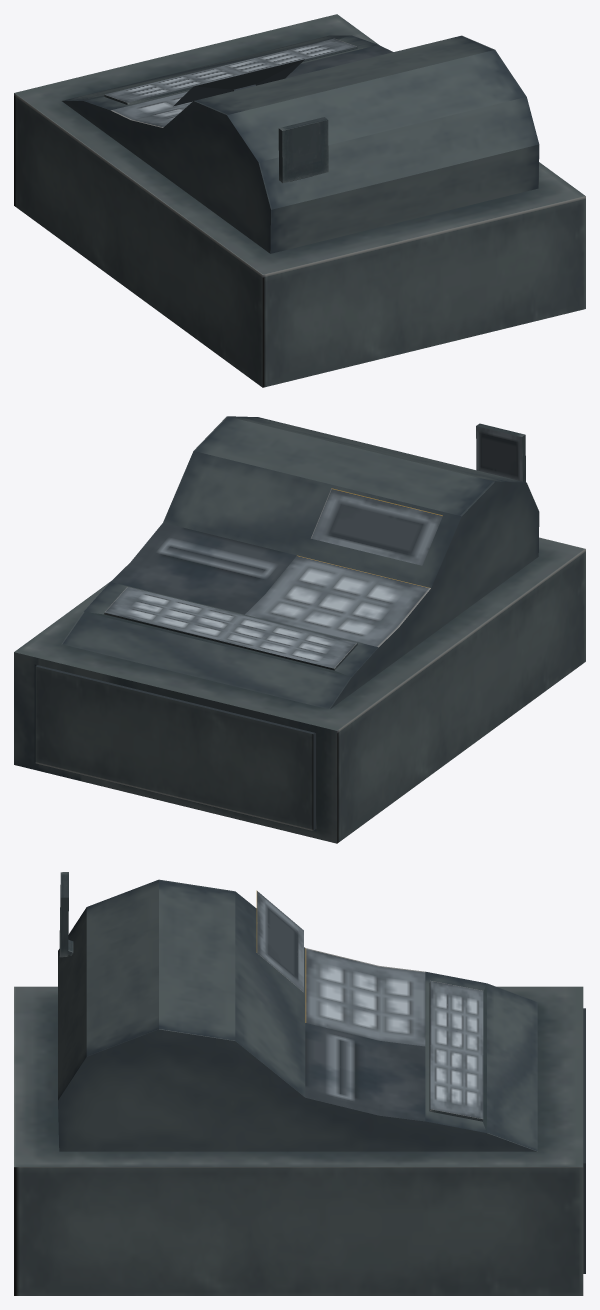
Rendered from Cashbox.fbx.
3 renders of one model, top to bottom at view 1: azimuth 30°, elevation 25°; view 2: azimuth 150°, elevation 25°; view 3: azimuth 270°, elevation 25°, orthographic. The views are drawn at different scales.
Visible parts, largest first — view 1: Cube; view 2: Cube; view 3: Cube.
Part boxes in pixels (left/top/right/bottom): Cube: left=14, top=14, right=585, bottom=387; Cube: left=14, top=416, right=585, bottom=843; Cube: left=14, top=872, right=585, bottom=1295.
Bounding box in the file's own units: 30 × 20.61 × 40.19.
